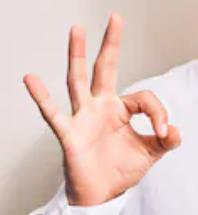left: (18, 10, 186, 195)
